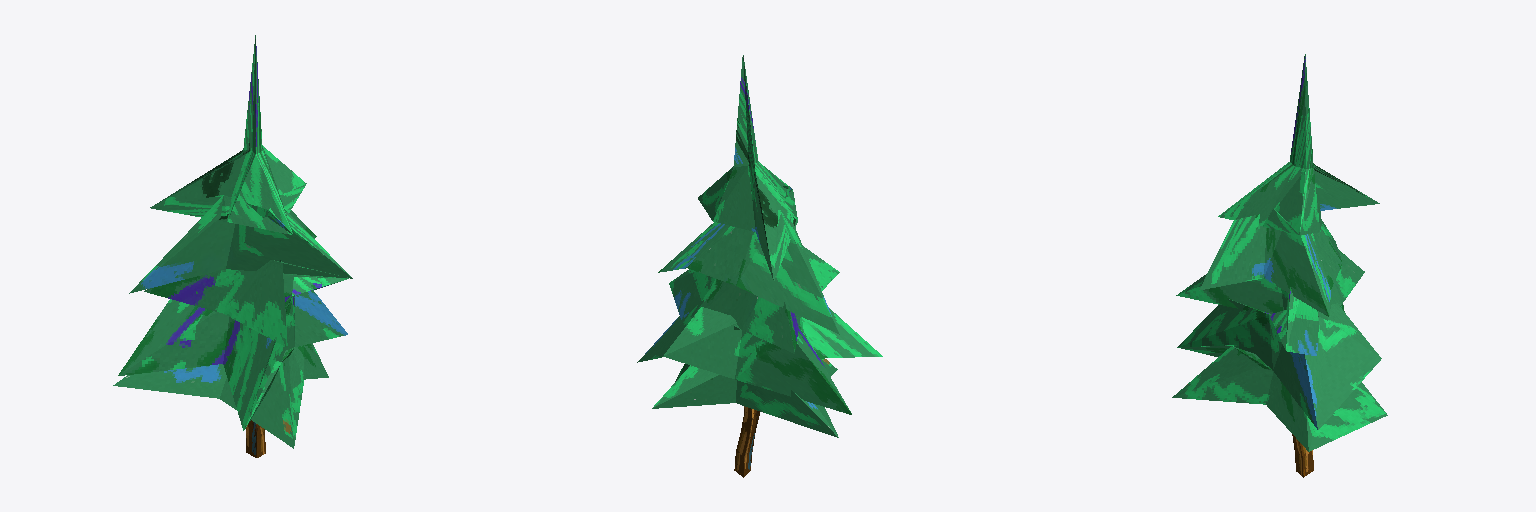
The picture shows the model from 3 angles: view 1: azimuth 30°, elevation 25°; view 2: azimuth 150°, elevation 25°; view 3: azimuth 270°, elevation 25°; orthographic projection.
Parts seen in each view (by area): view 1: feuillageSapin, troncSapin; view 2: feuillageSapin, troncSapin; view 3: feuillageSapin, troncSapin.
Part boxes in pixels (x1,y1,x2,y2): feuillageSapin: (113,35,352,448); troncSapin: (246,420,265,457); feuillageSapin: (637,55,882,437); troncSapin: (734,406,759,477); feuillageSapin: (1172,54,1387,451); troncSapin: (1292,434,1313,477).
Bounding box in the file's own units: 123 × 222 × 103.
2 materials, 2 textured.